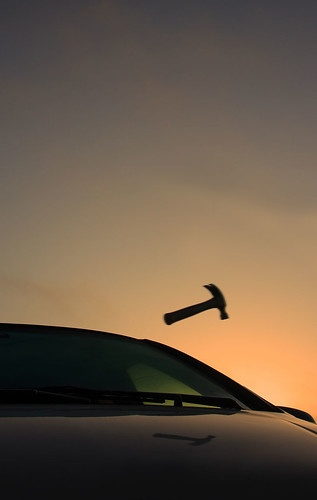hammer: (164, 281, 231, 328)
